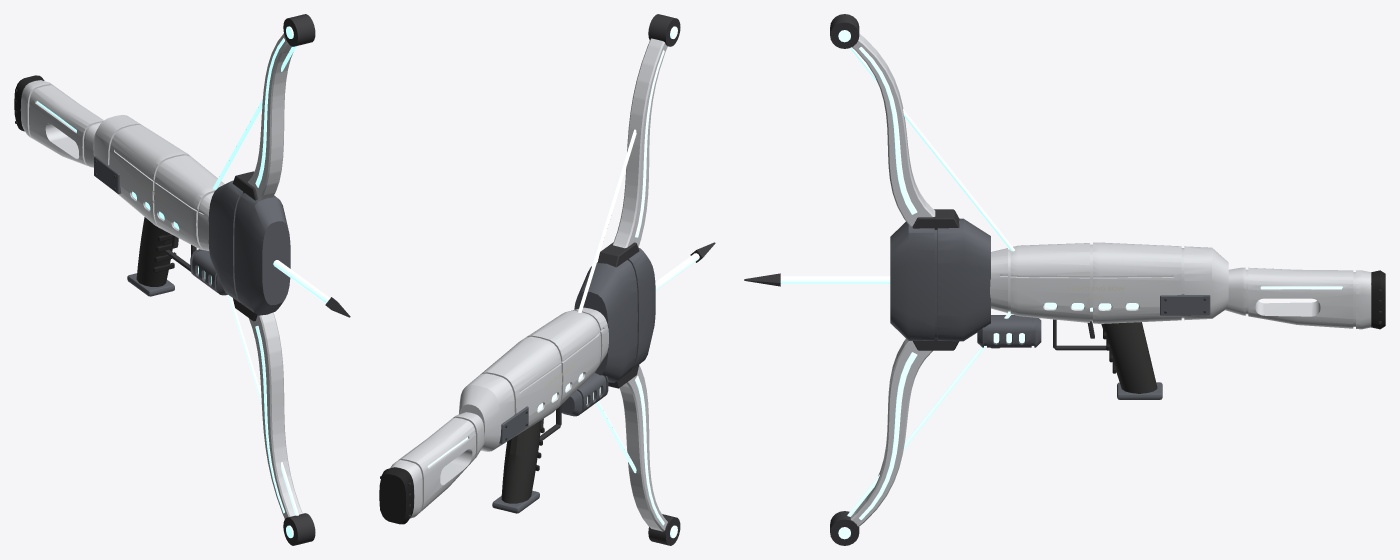
File: lightningbow.glb
The picture shows the model from 3 angles, left to right: view 1: azimuth 30°, elevation 25°; view 2: azimuth 150°, elevation 25°; view 3: azimuth 270°, elevation 25°; orthographic projection.
Visible parts, largest first — view 1: Body; view 2: Body; view 3: Body.
Boxes of the visible parts, bbox=[...] form: Body: bbox=[14, 14, 350, 545]; Body: bbox=[379, 14, 715, 545]; Body: bbox=[744, 14, 1385, 545].
Size of the model in its own units: 0.0608 by 0.632 by 0.702.
